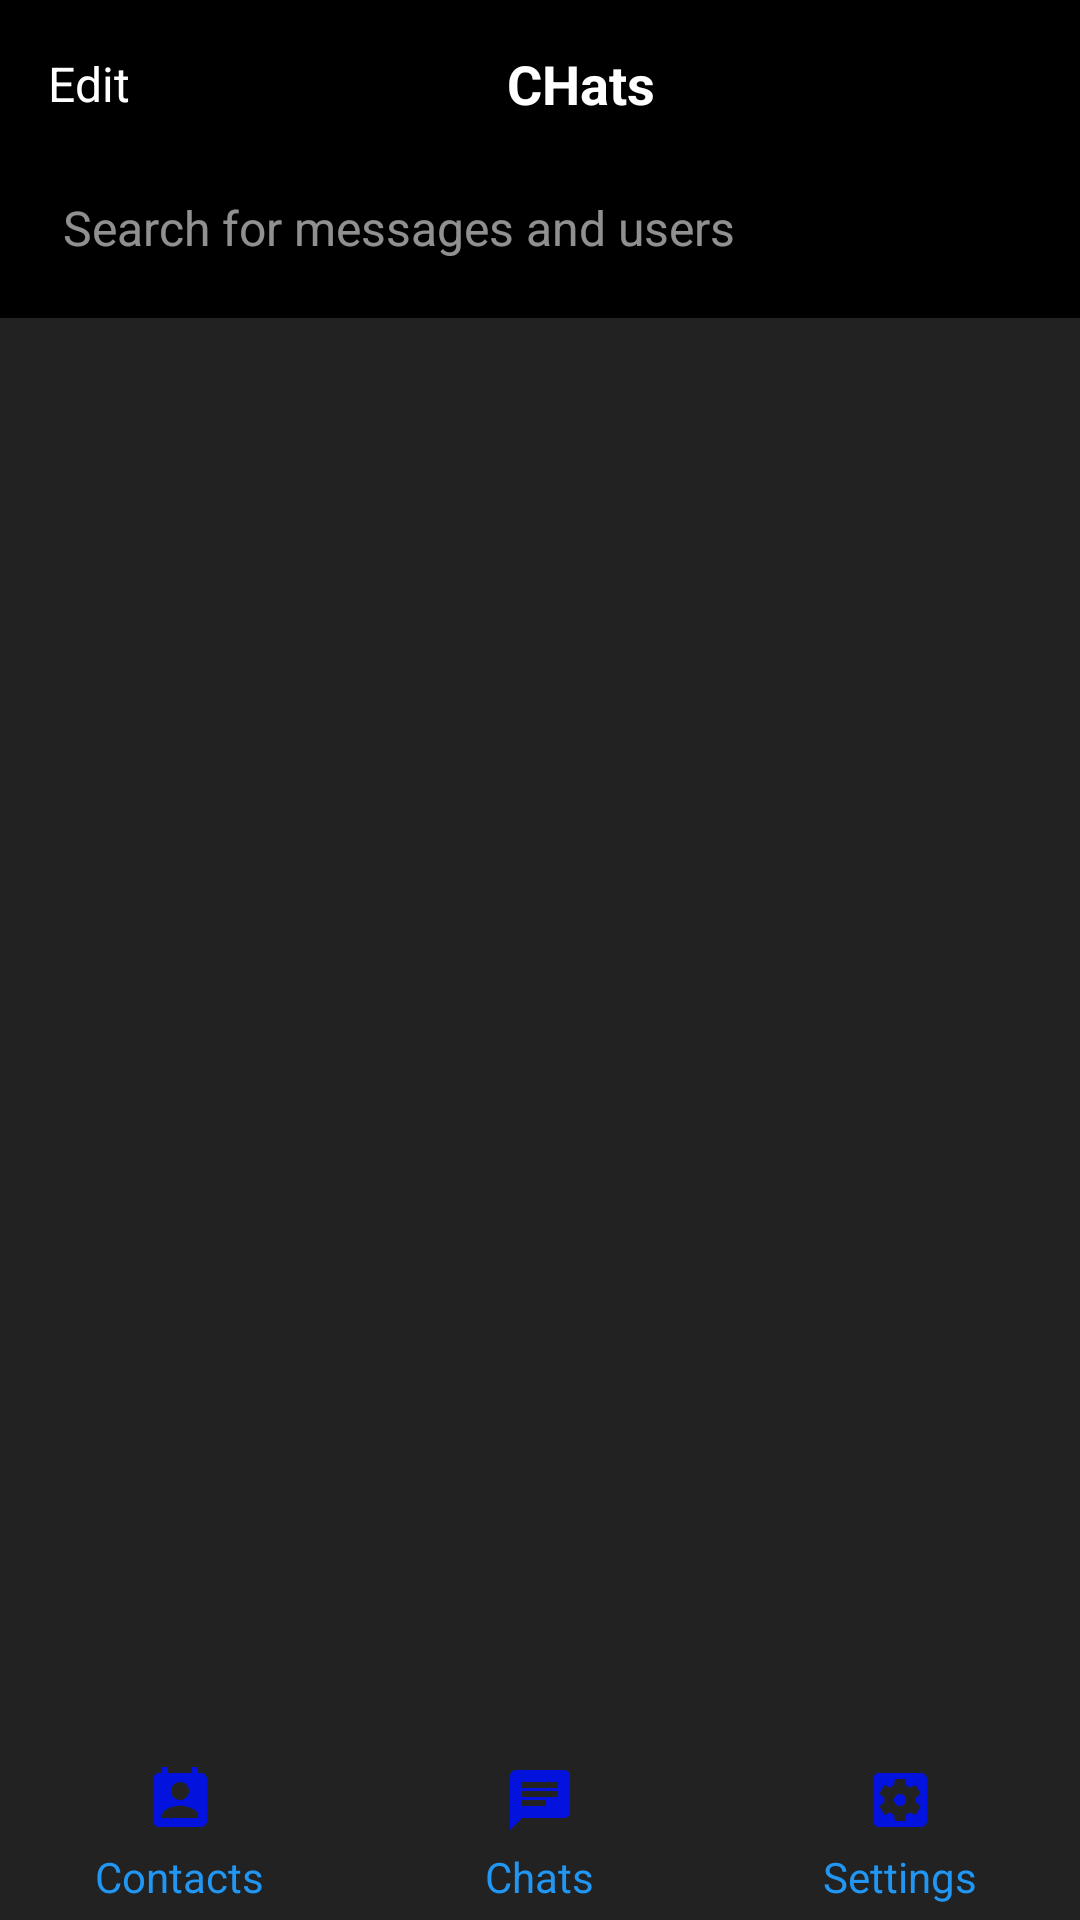

Locate icon controls on the screen. Image size 1080*1920, boxes as (x1, y1, x2, y2).
perm contact calendar: (153, 1767, 207, 1827)
